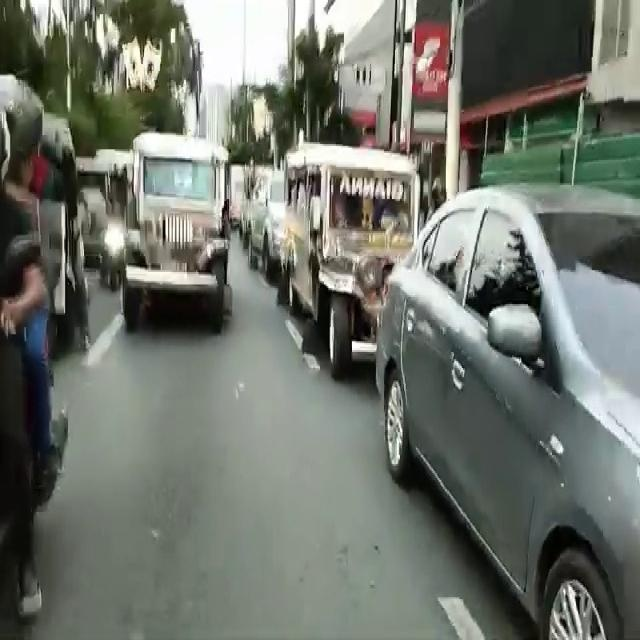car: (366, 234, 640, 634)
jeepney: (275, 162, 433, 357), (124, 136, 223, 325)
motorcycle: (99, 174, 123, 299)
